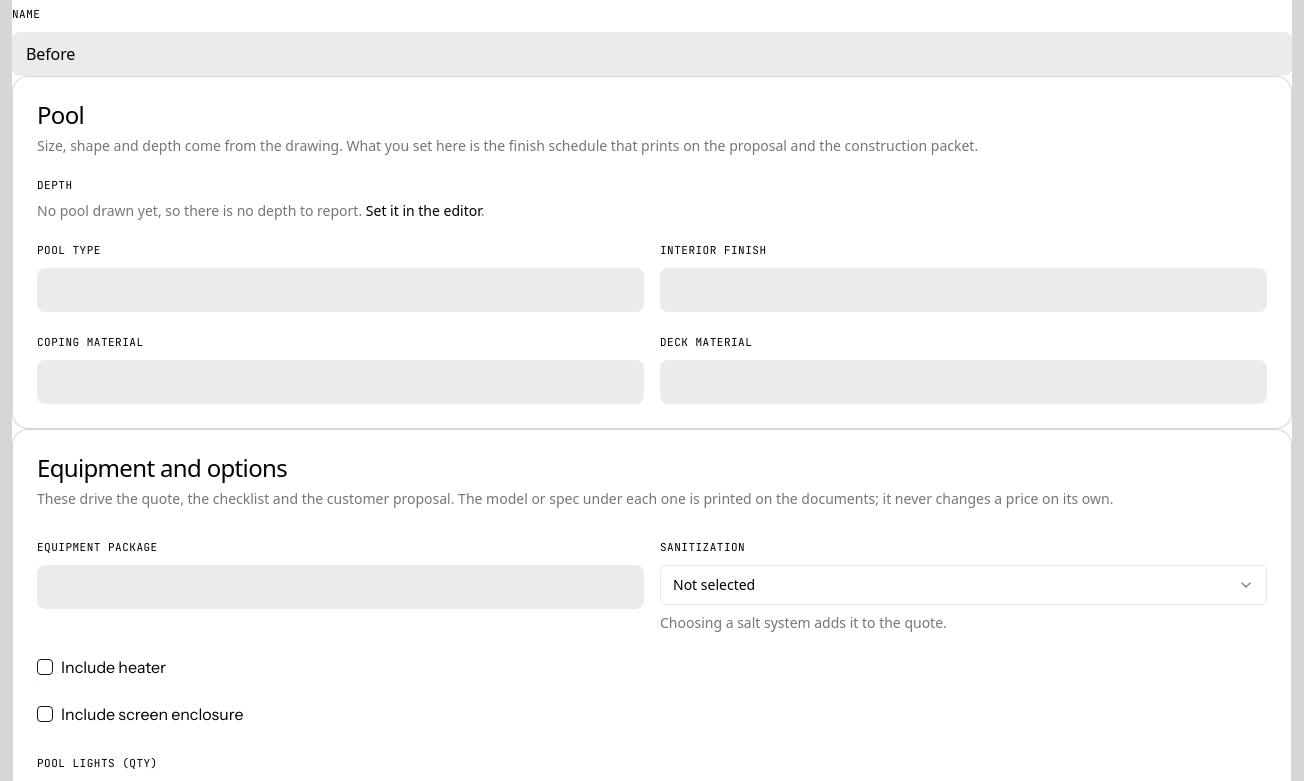
Test: project page asks each question once › writes one sanitization answer to both the price and the printed row
Click the dropdown named "Sanitization": (714, 584) [660, 565, 1267, 605]
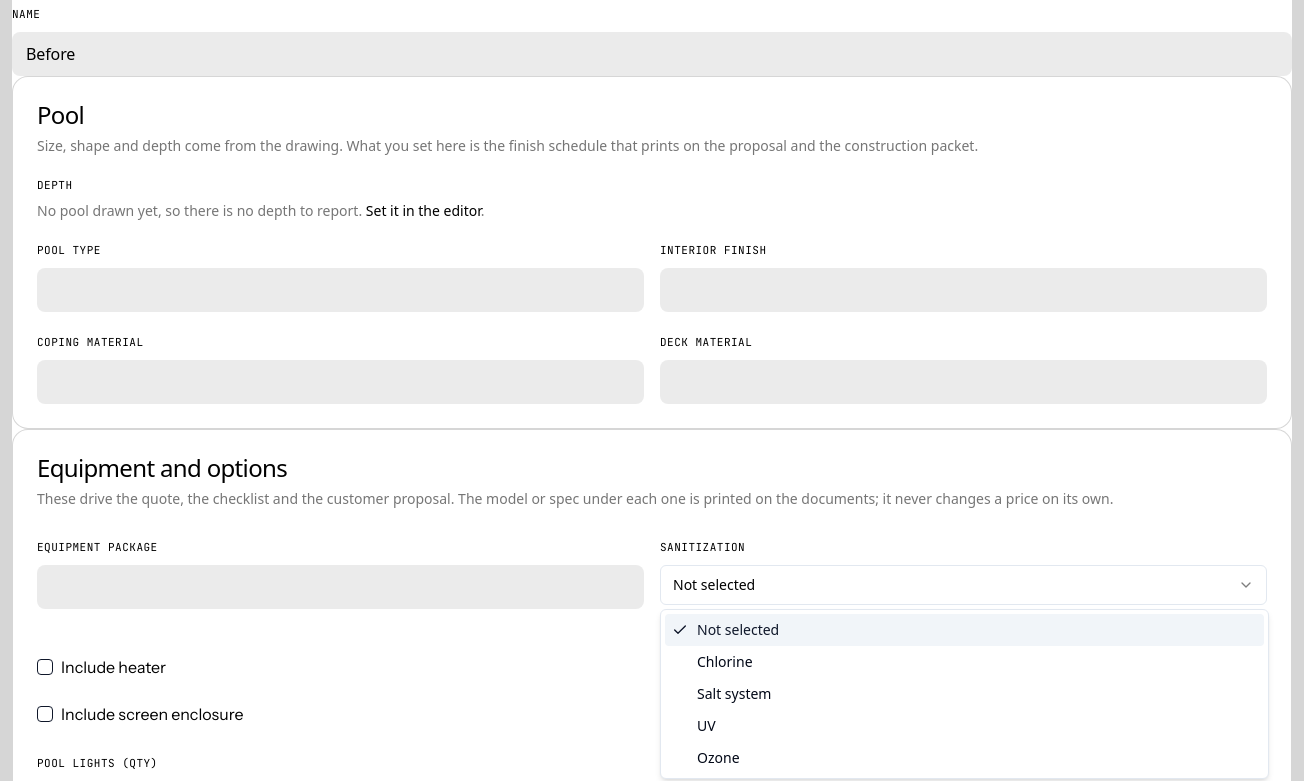
Click the option "Salt system": (734, 694) [697, 684, 772, 703]
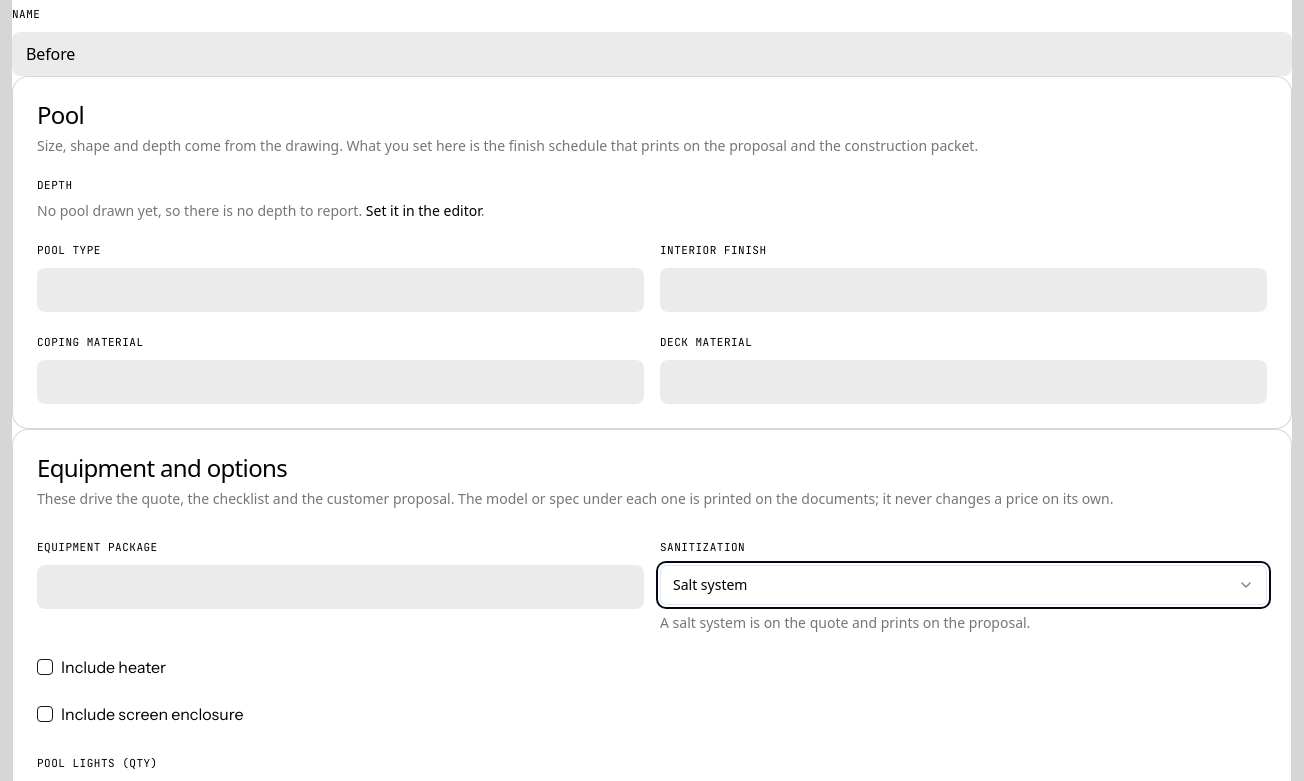
Now the text "Salt system" is shown, box [673, 575, 748, 595]
